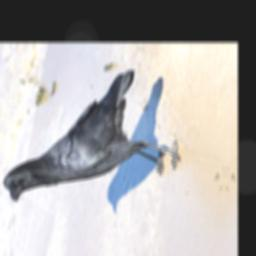Crow: (1, 65, 190, 207)
